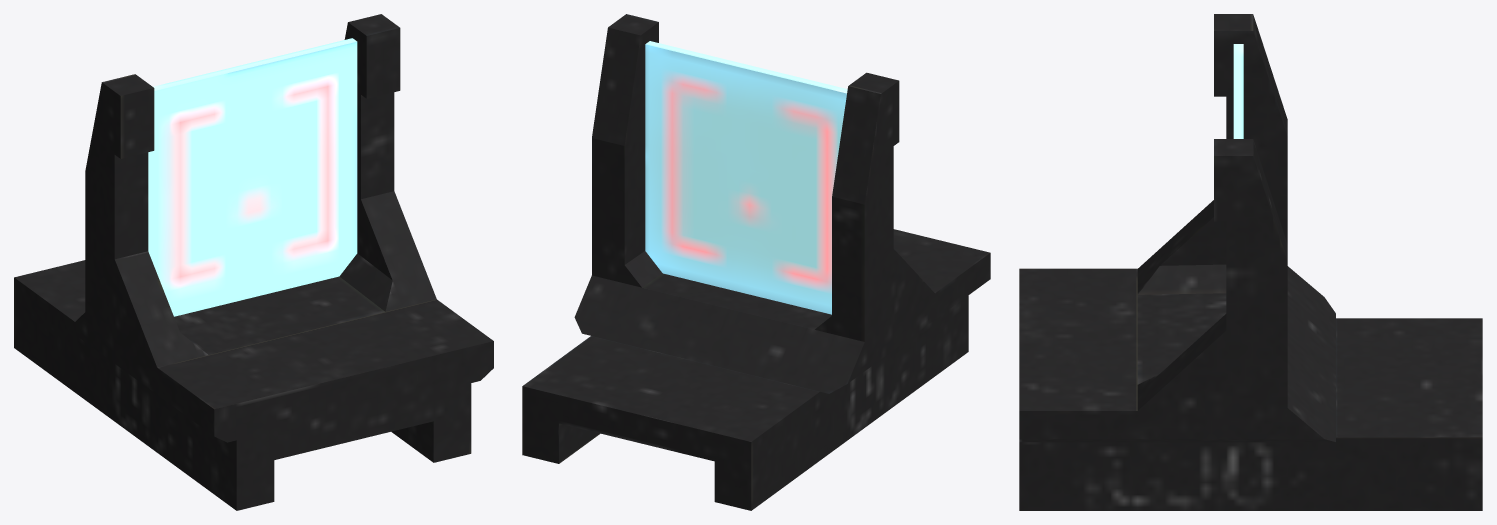
File: Rifle1_Hole.fbx
3 renders of one model, left to right at view 1: azimuth 30°, elevation 25°; view 2: azimuth 150°, elevation 25°; view 3: azimuth 270°, elevation 25°, orthographic. The views are drawn at different scales.
Parts seen in each view (by area): view 1: Hole; view 2: Hole; view 3: Hole.
Part boxes in pixels (bbox=[...]): Hole: bbox=[14, 14, 493, 510]; Hole: bbox=[522, 14, 990, 510]; Hole: bbox=[1019, 14, 1482, 510].
Bounding box in the file's own units: 3.96 × 4.76 × 5.46.
